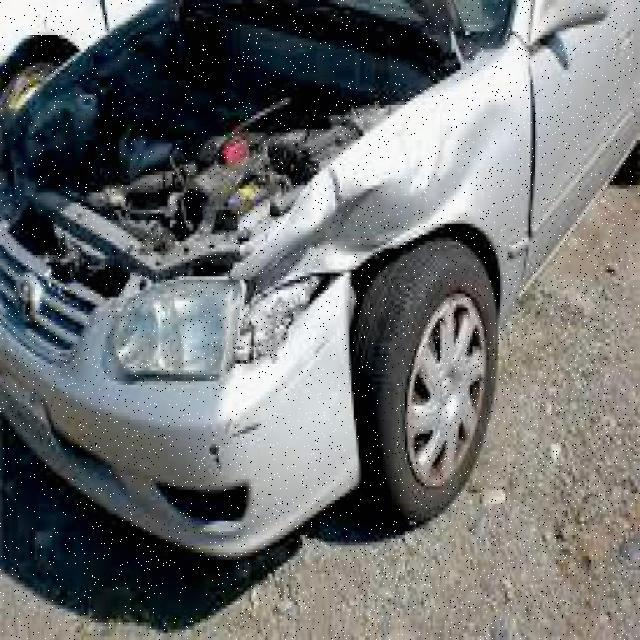car damage: (185, 41, 526, 485)
